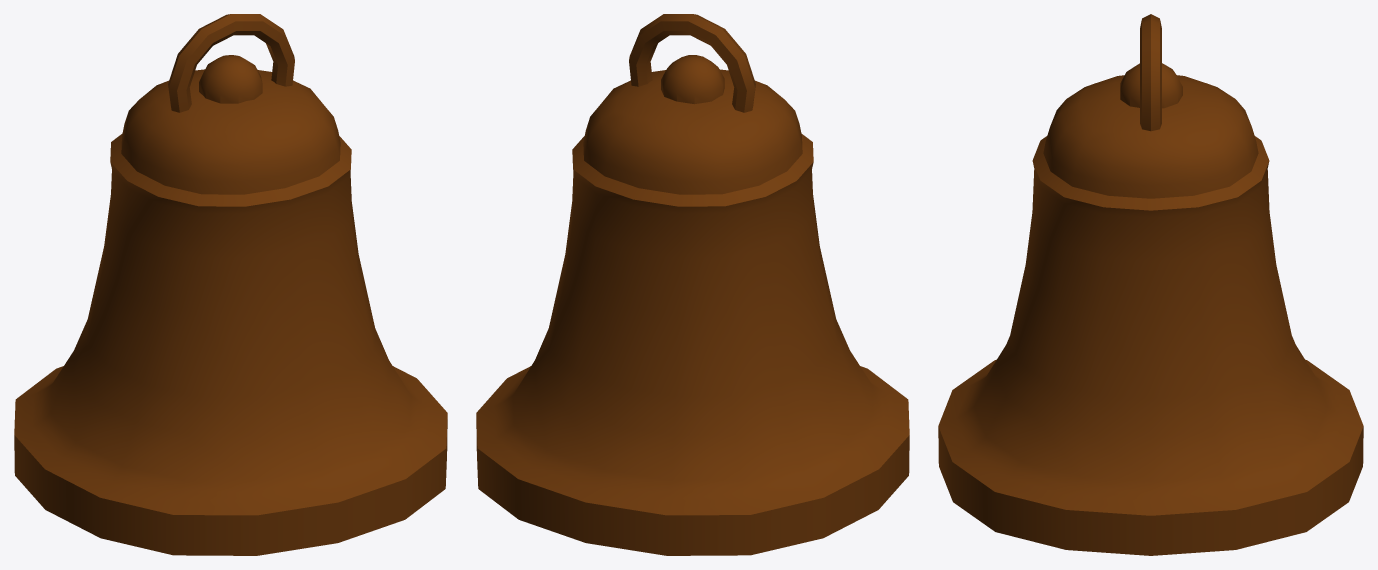
The model's file is Campana.obj.
3 renders of one model, left to right at view 1: azimuth 30°, elevation 25°; view 2: azimuth 150°, elevation 25°; view 3: azimuth 270°, elevation 25°, orthographic.
Bounding box in the file's own units: 0.6331 × 0.7325 × 0.6331.
